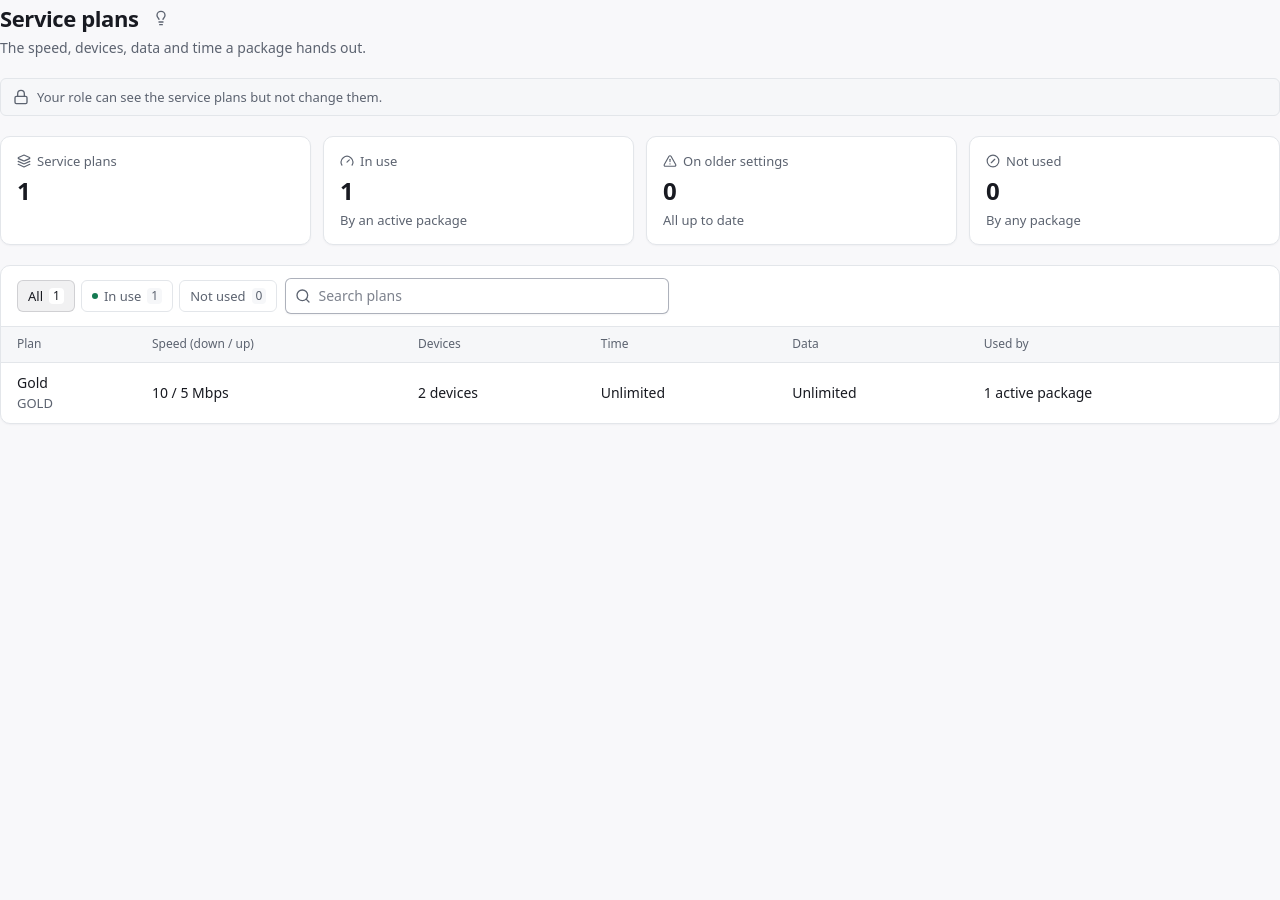
a read-only role is offered no write control › Service plans: a viewer sees the plans and no Add, Edit or Delete
The image size is (1280, 900).
Check: the text "Your role can see the service plans but not change them." is shown, box [37,87,382,107]
Click the text "Gold": point(32, 382) [17,373,48,392]
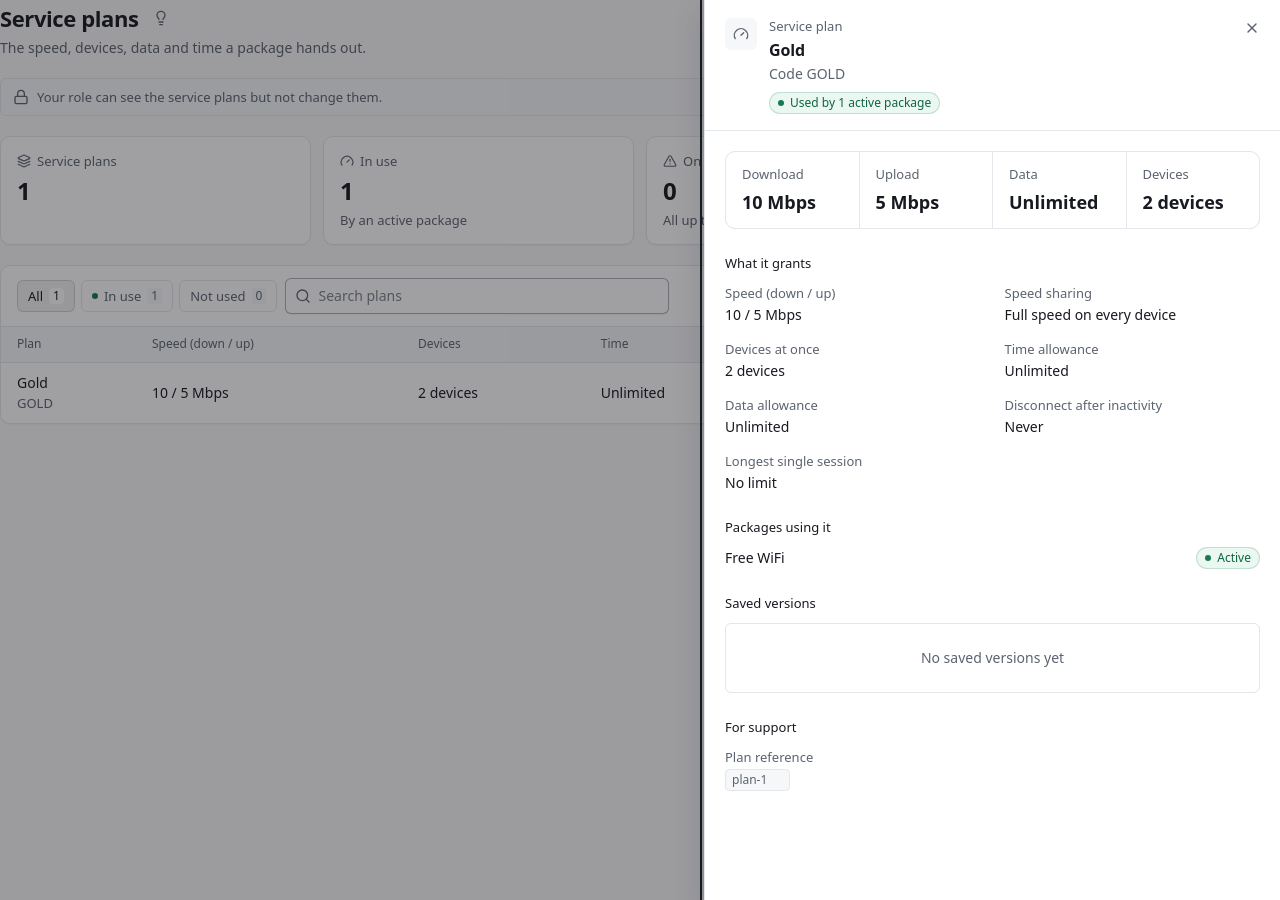
Check: the dialog is shown, box [704,0,1279,899]
